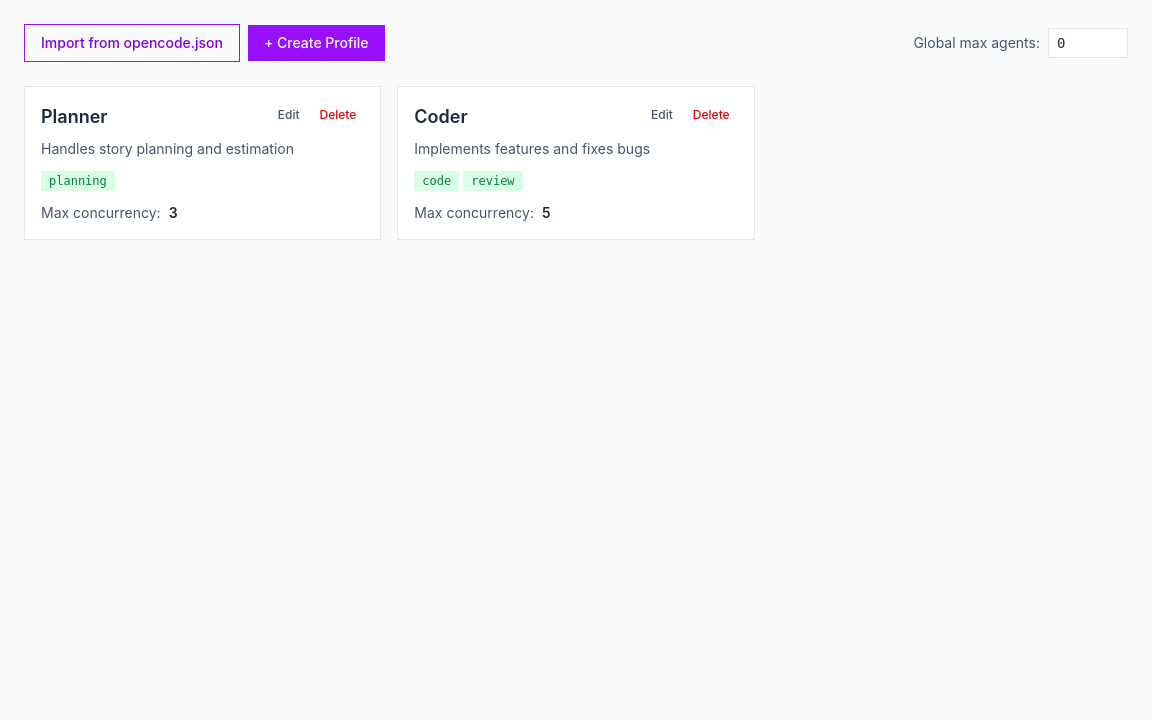
ProfilesPage › renders all 7 task type checkboxes in the edit form
Expected: the heading "Planner" is shown, [41,103,108,131]
Click the button "Edit" in the row of "Planner" at (289, 115), box [270,103,308,127]
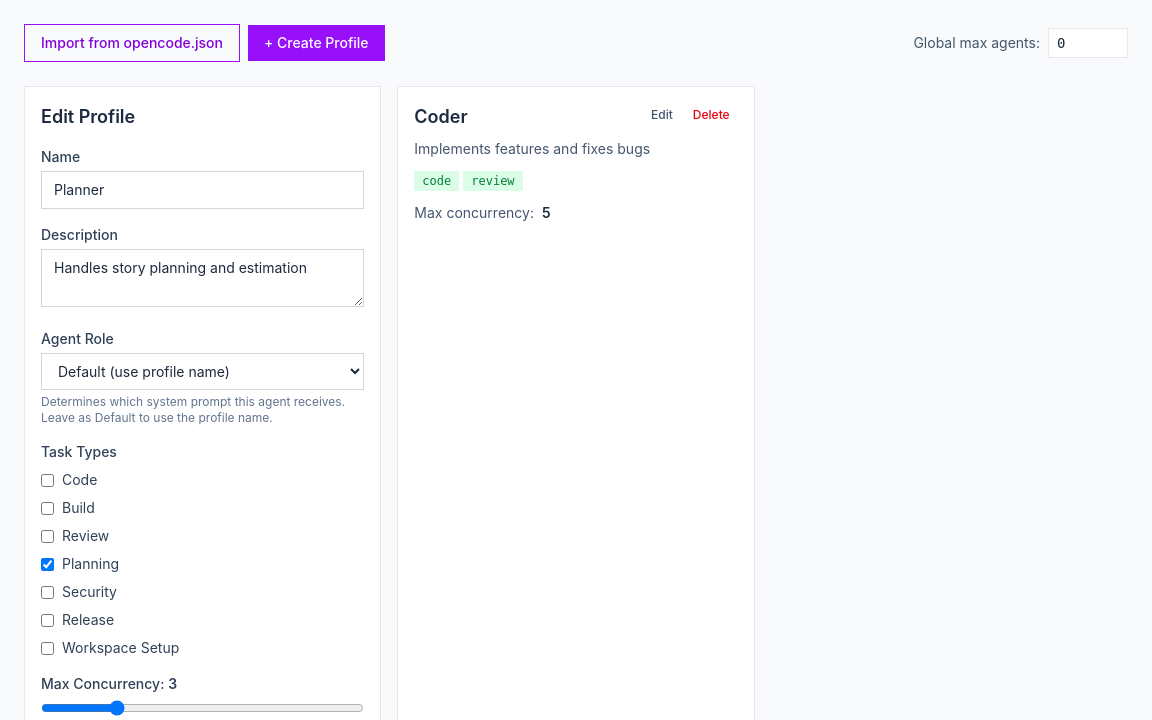
Expected: the checkbox labelled "Code" is shown, [41,474,54,486]
Expected: the checkbox labelled "Build" is shown, [41,502,54,514]
Expected: the checkbox labelled "Review" is shown, [41,530,54,542]
